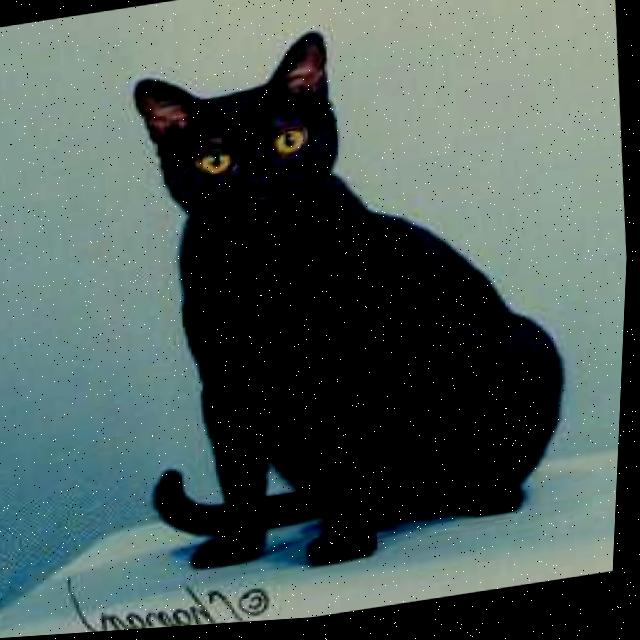Bombay: (109, 0, 601, 601)
